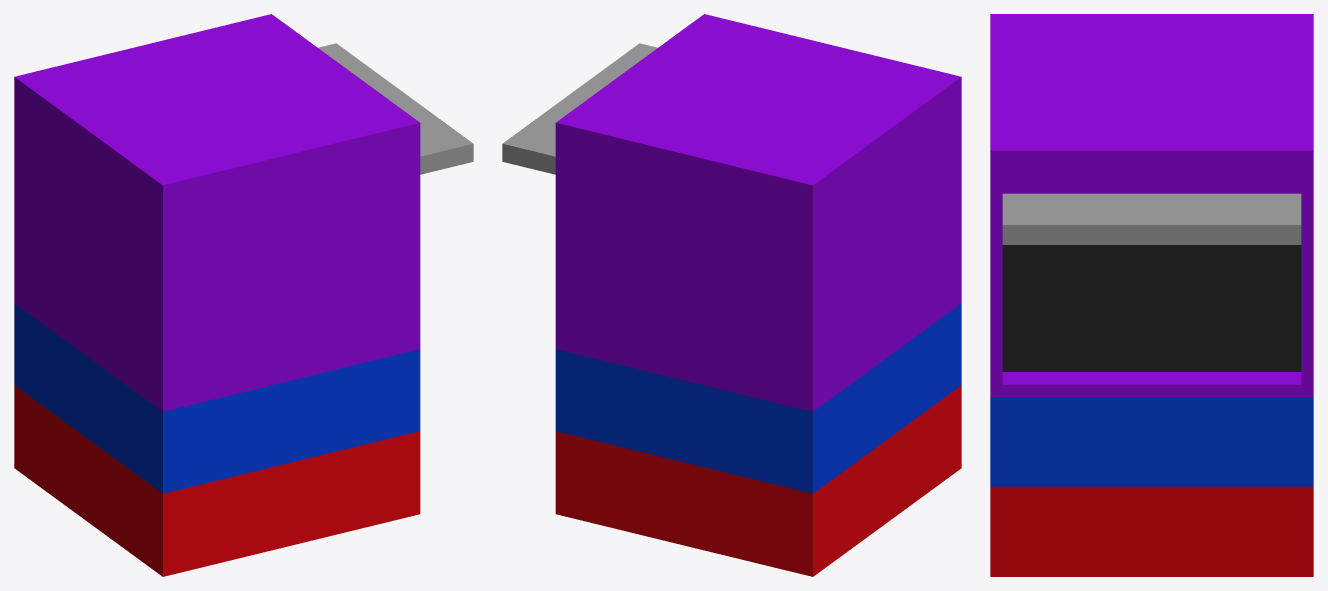
File: EstructuraOlla2.fbx
3 views of the same model, side by side, from view 1: azimuth 30°, elevation 25°; view 2: azimuth 150°, elevation 25°; view 3: azimuth 270°, elevation 25° (orthographic). The views are drawn at different scales.
Parts seen in each view (by area): view 1: Cube.003; view 2: Cube.003; view 3: Cube.003.
Boxes of the visible parts, bbox=[...] form: Cube.003: bbox=[14, 14, 473, 576]; Cube.003: bbox=[502, 14, 961, 576]; Cube.003: bbox=[990, 14, 1313, 576].
Size of the model in its own units: 122 by 144 by 99.3.
